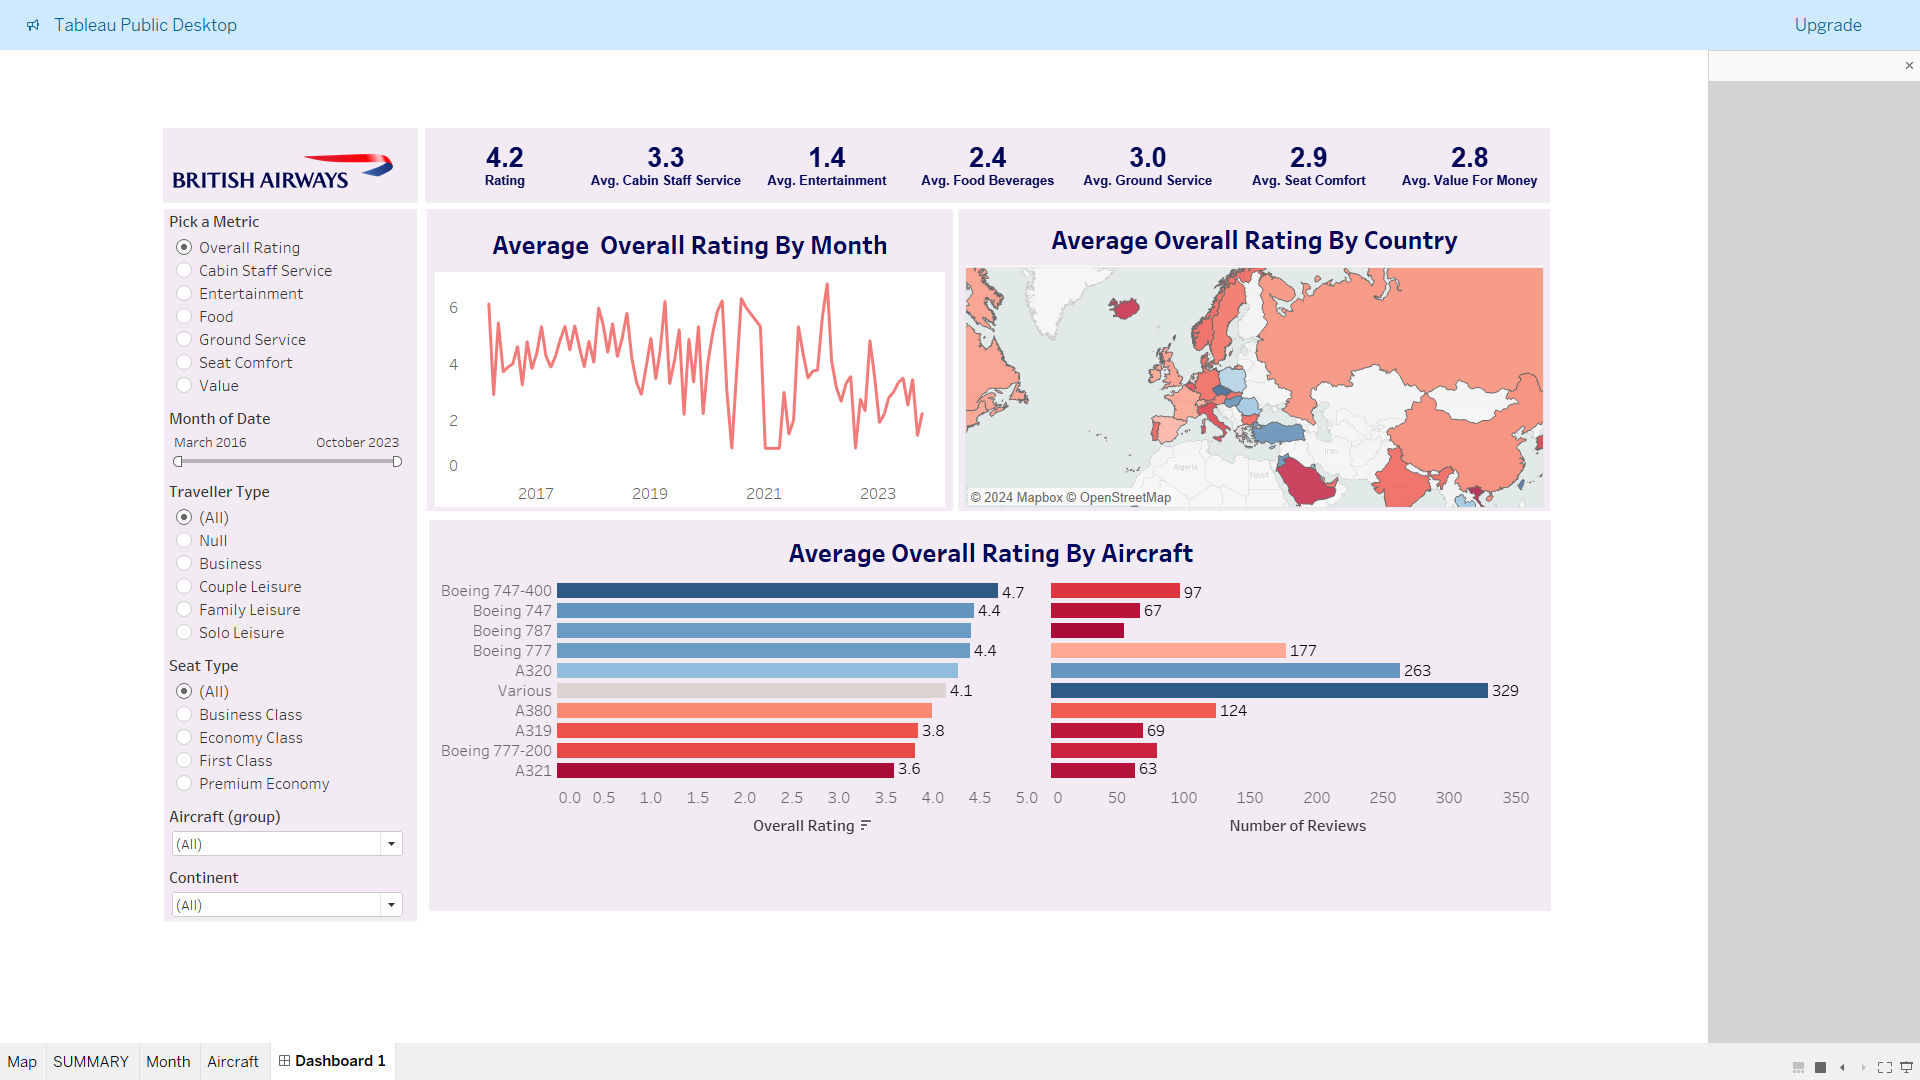

What the dashboard file says about the page in this screenshot:
{"tool":"tableau","page":{"name":"Dashboard 1","canvas":[1400,850],"ordinal":0},"visuals":[{"type":"blank","box":[5,3.2,263,82.9]},{"type":"worksheet","title":"SUMMARY","mark":"Automatic","box":[267,3.2,1133,82.9]},{"type":"image","param":"Image/kisspng-british-airways-salzburg-airport-airline-check-in-5ae44ee41b6136.6","box":[7,8.5,243,80.8]},{"type":"parameter","param":"[Parameters].[Parameter 1]","box":[11,85.7,245,197]},{"type":"blank","box":[10,88,253,712]},{"type":"blank","box":[273,88,526,302]},{"type":"blank","box":[804,88,592,302]},{"type":"worksheet","title":"Map","mark":"Multipolygon","box":[811,97,579,290]},{"type":"worksheet","title":"Month","mark":"Automatic","rows":["Calculation_1228075376476176384"],"cols":["date"],"box":[281,102,510,284]},{"type":"filter","title":"Map","param":"[federated.11w8srq1hapd9a16zyrw60xeq5wv].[tmn:date:qk]","box":[11,282.7,245,73]},{"type":"filter","title":"Map","param":"[federated.11w8srq1hapd9a16zyrw60xeq5wv].[none:traveller_type:nk]","box":[11,355.7,245,174]},{"type":"blank","box":[275,399,1122,391]},{"type":"worksheet","title":"Aircraft","mark":"Automatic","cols":["Calculation_1228075376476176384","ba_reviews.csv_7F308C2C09A4468E8A3DF4DBD58DF157"],"box":[283,410,1108,377]},{"type":"filter","title":"Map","param":"[federated.11w8srq1hapd9a16zyrw60xeq5wv].[none:seat_type:nk]","box":[11,529.7,245,151]},{"type":"filter","title":"Map","param":"[federated.11w8srq1hapd9a16zyrw60xeq5wv].[Aircraft (group)]","box":[11,680.7,245,61]},{"type":"filter","title":"Map","param":"[federated.11w8srq1hapd9a16zyrw60xeq5wv].[none:Continent:nk]","box":[11,741.7,245,61]}]}

Visuals, with their boxes on the page's 1400x850 design canvas (x1, y1, x2, y2). These are canvas units, not pixel positions in the 1920x1080 screenshot, which may show the page scaled, cropped or inside an application window:
blank: x1=5 y1=3 x2=268 y2=86
"SUMMARY" worksheet: x1=267 y1=3 x2=1400 y2=86
image: x1=7 y1=8 x2=250 y2=89
parameter: x1=11 y1=86 x2=256 y2=283
blank: x1=10 y1=88 x2=263 y2=800
blank: x1=273 y1=88 x2=799 y2=390
blank: x1=804 y1=88 x2=1396 y2=390
"Map" worksheet (Multipolygon marks): x1=811 y1=97 x2=1390 y2=387
"Month" worksheet: x1=281 y1=102 x2=791 y2=386
"Map" filter: x1=11 y1=283 x2=256 y2=356
"Map" filter: x1=11 y1=356 x2=256 y2=530
blank: x1=275 y1=399 x2=1397 y2=790
"Aircraft" worksheet: x1=283 y1=410 x2=1391 y2=787
"Map" filter: x1=11 y1=530 x2=256 y2=681
"Map" filter: x1=11 y1=681 x2=256 y2=742
"Map" filter: x1=11 y1=742 x2=256 y2=803
